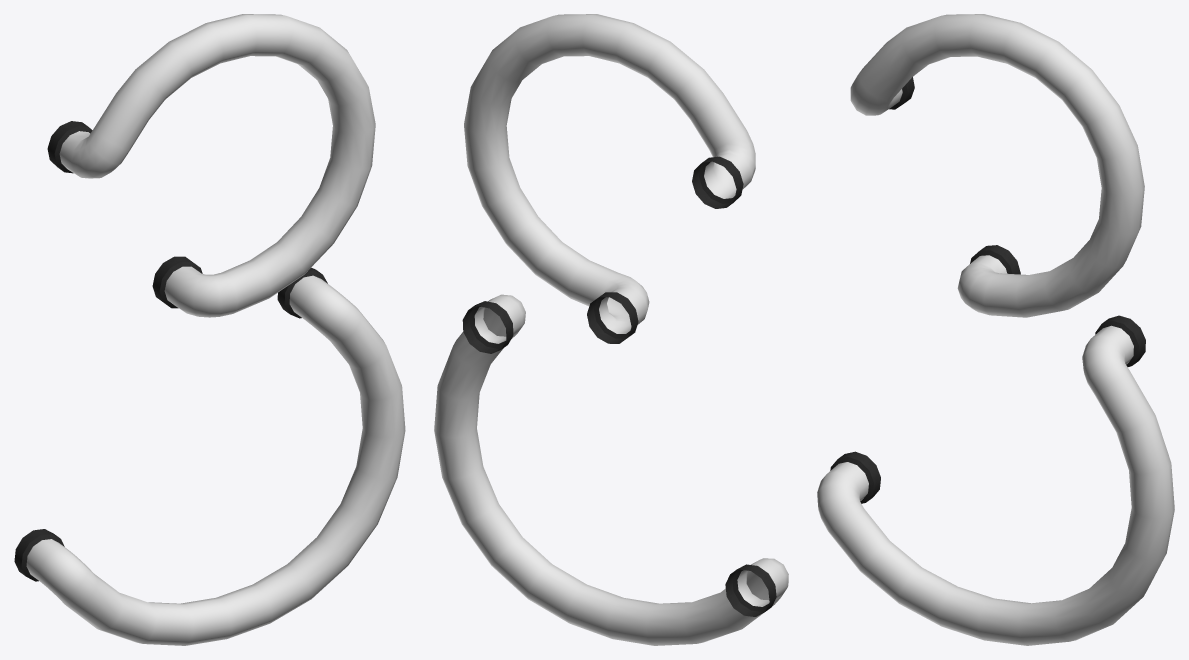
The model's file is LettersNeon01_3.FBX.
The picture shows the model from 3 angles, left to right: view 1: azimuth 30°, elevation 25°; view 2: azimuth 150°, elevation 25°; view 3: azimuth 330°, elevation 25°; orthographic projection.
Parts seen in each view (by area): view 1: LettersNeon01_3; view 2: LettersNeon01_3; view 3: LettersNeon01_3.
Part boxes in pixels (x1=…): LettersNeon01_3: x1=14, y1=14, x2=405, y2=645; LettersNeon01_3: x1=434, y1=14, x2=788, y2=645; LettersNeon01_3: x1=817, y1=14, x2=1174, y2=645.
Size of what is drawn, in the model's own units: 0.2921 by 0.4771 by 0.054.
